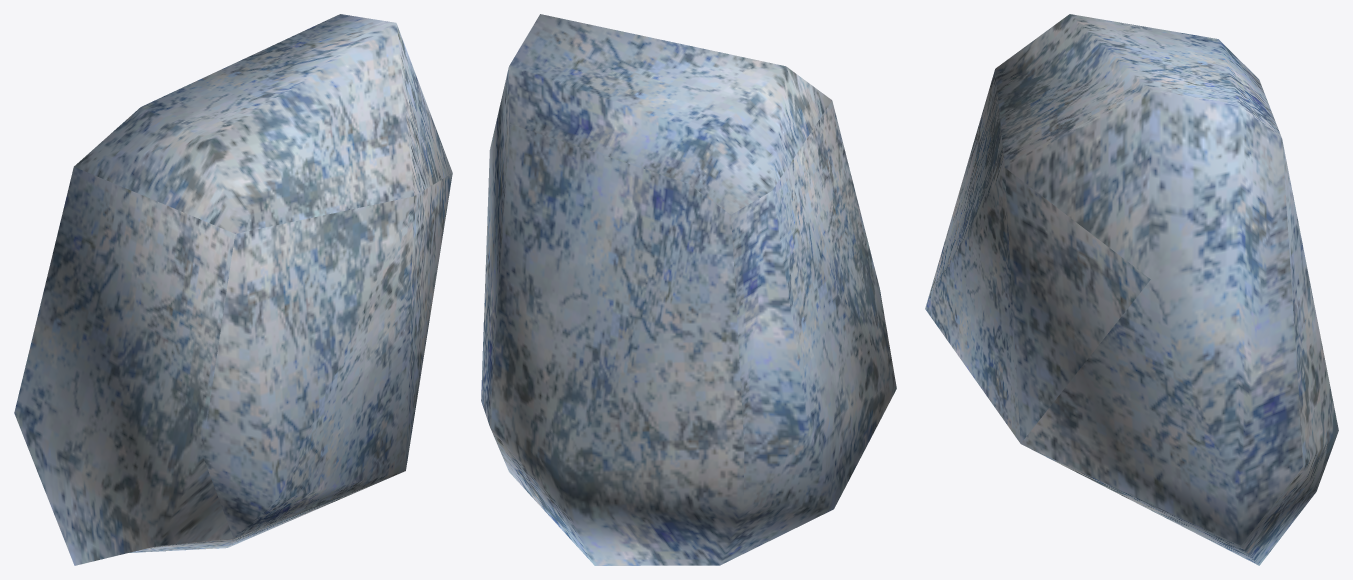
Rendered from asteroid_ice_radial_s02_l2.fbx.
3 renders of one model, left to right at view 1: azimuth 30°, elevation 25°; view 2: azimuth 150°, elevation 25°; view 3: azimuth 270°, elevation 25°, orthographic. The views are drawn at different scales.
Parts seen in each view (by area): view 1: mesh_node; view 2: mesh_node; view 3: mesh_node.
Part boxes in pixels (box(x1,y1,x2,y2)): mesh_node: box(14, 14, 452, 565); mesh_node: box(481, 14, 896, 565); mesh_node: box(925, 14, 1338, 565).
Bounding box in the file's own units: 4.21 × 5.5 × 3.89.
